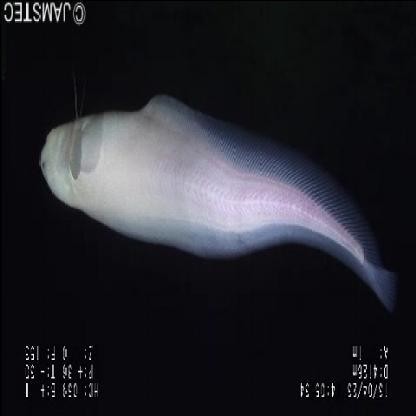Bio: (37, 90, 402, 320)
